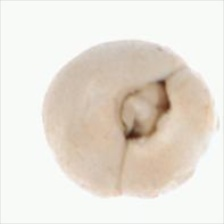L3: (112, 77, 172, 148)
L4: (44, 40, 212, 199)
